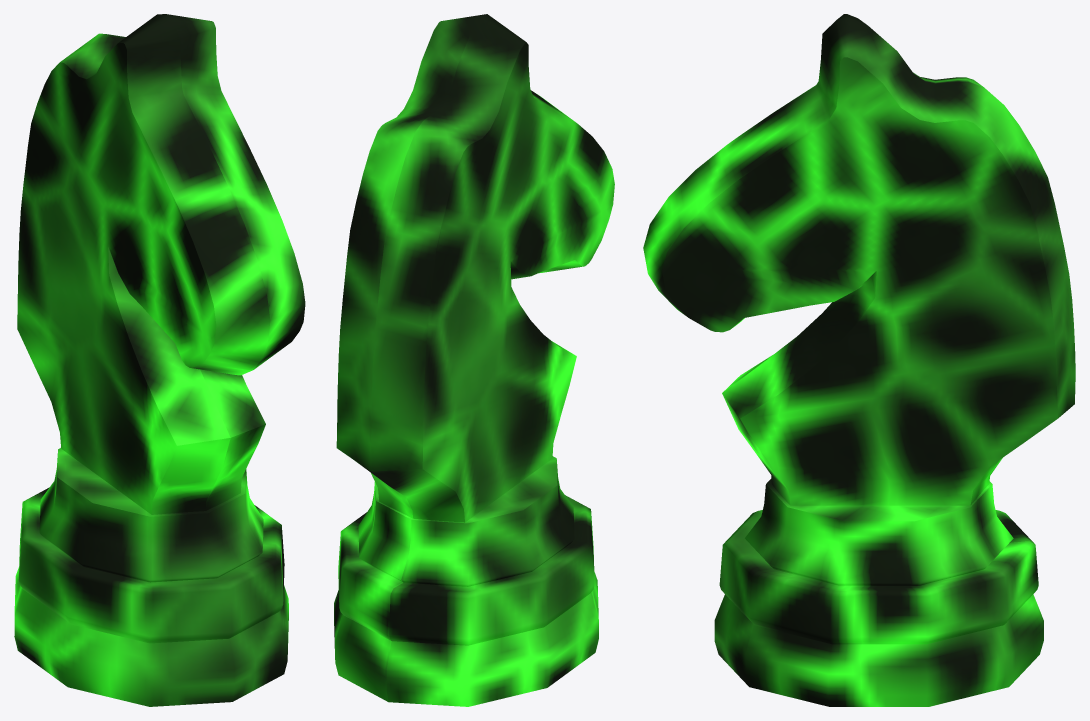
File: item-1-8.glb
3 renders of one model, left to right at view 1: azimuth 30°, elevation 25°; view 2: azimuth 150°, elevation 25°; view 3: azimuth 270°, elevation 25°, orthographic. The views are drawn at different scales.
Parts seen in each view (by area): view 1: BlackHorse; view 2: BlackHorse; view 3: BlackHorse.
Part boxes in pixels (x1,y1,x2,y2): BlackHorse: (14, 14, 305, 706); BlackHorse: (334, 14, 614, 706); BlackHorse: (643, 14, 1075, 706).
Size of the model in its own units: 0.0718 by 0.1965 by 0.1211.
1 material, 1 textured.
